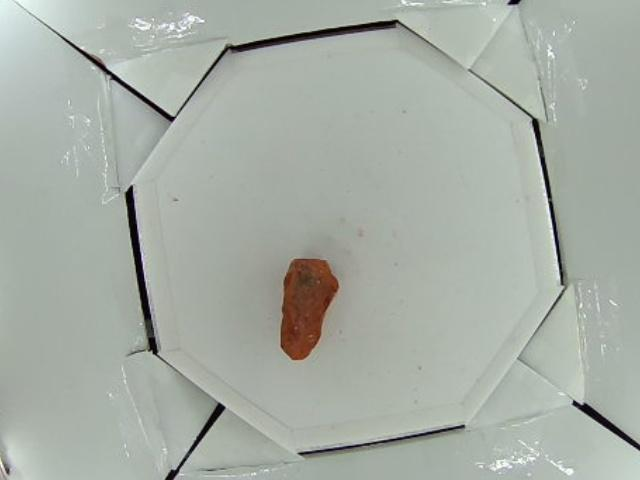Brisk: (282, 257, 336, 360)
